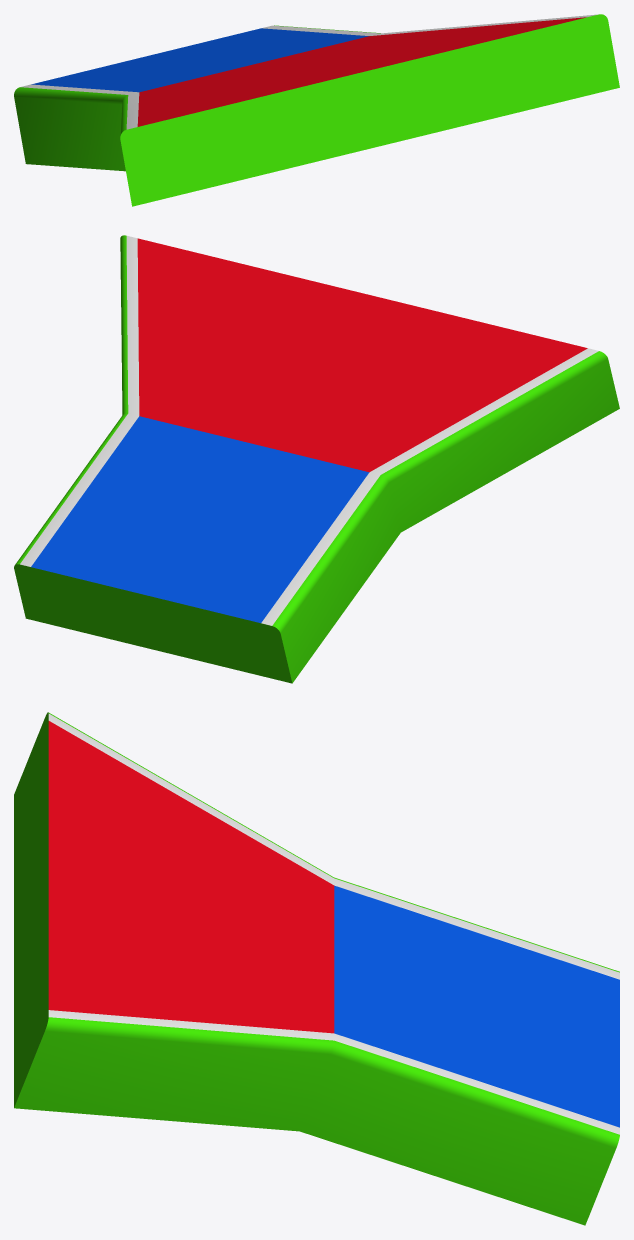
Rendered from OrtaYoldan_DarYola_Gecis_Asagi.fbx.
The picture shows the model from 3 angles, top to bottom: view 1: azimuth 30°, elevation 25°; view 2: azimuth 150°, elevation 25°; view 3: azimuth 270°, elevation 25°; orthographic projection. The views are drawn at different scales.
Visible parts, largest first — view 1: OrtaYoldan_DarYola_Gecis_Asagi; view 2: OrtaYoldan_DarYola_Gecis_Asagi; view 3: OrtaYoldan_DarYola_Gecis_Asagi.
Boxes of the visible parts, x1,y1,x2,y2 form: OrtaYoldan_DarYola_Gecis_Asagi: (14, 14, 619, 206); OrtaYoldan_DarYola_Gecis_Asagi: (14, 235, 619, 683); OrtaYoldan_DarYola_Gecis_Asagi: (14, 712, 619, 1225).
Bounding box in the file's own units: 1098 × 449 × 897.
